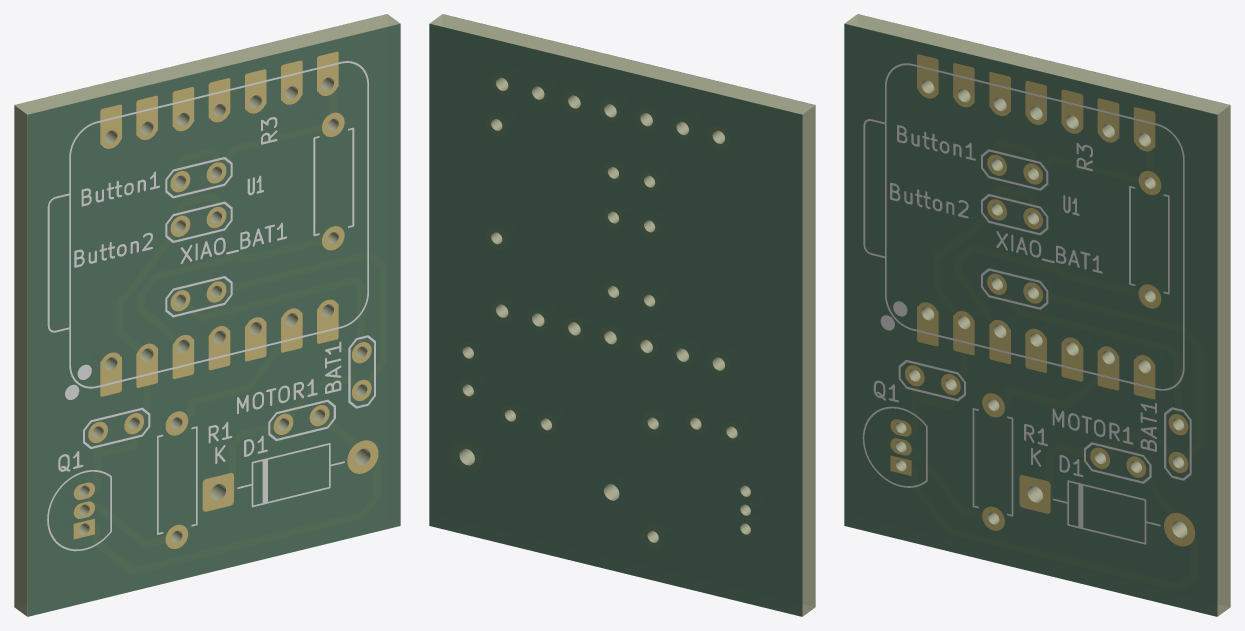
The model's file is careband.glb.
3 renders of one model, left to right at view 1: azimuth 30°, elevation 25°; view 2: azimuth 150°, elevation 25°; view 3: azimuth 330°, elevation 25°, orthographic.
Parts seen in each view (by area): view 1: Shape (×5); view 2: Shape (×4); view 3: Shape (×5).
Boxes of the visible parts, box(x1,y1,x2,y2) form: Shape (×5): box(14, 14, 400, 616); Shape (×4): box(429, 14, 815, 616); Shape (×5): box(844, 14, 1230, 616).
Size of the model in its own units: 0.0262 by 0.0337 by 0.00169.
